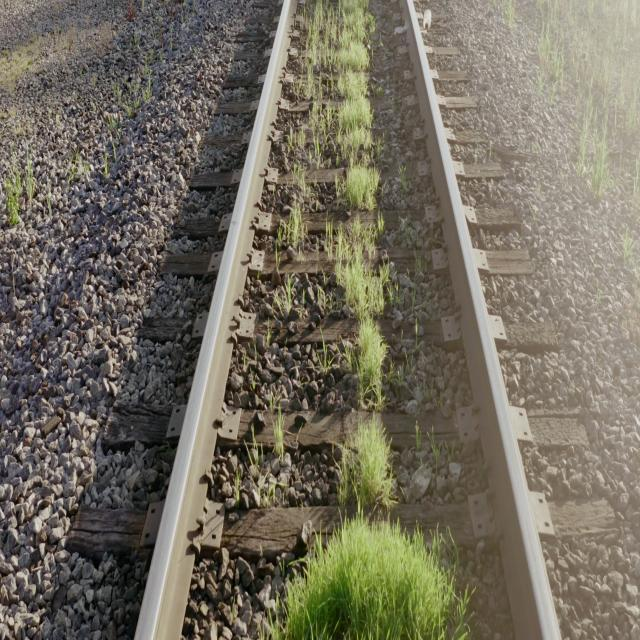Plant: (286, 516, 455, 640), (301, 0, 380, 216), (326, 218, 389, 409), (339, 422, 391, 507), (276, 200, 304, 249), (275, 409, 290, 473), (294, 169, 309, 196), (290, 133, 300, 156)
